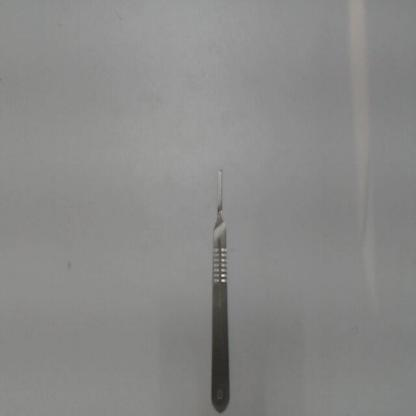No.4 BP Handle: (207, 162, 233, 414)
